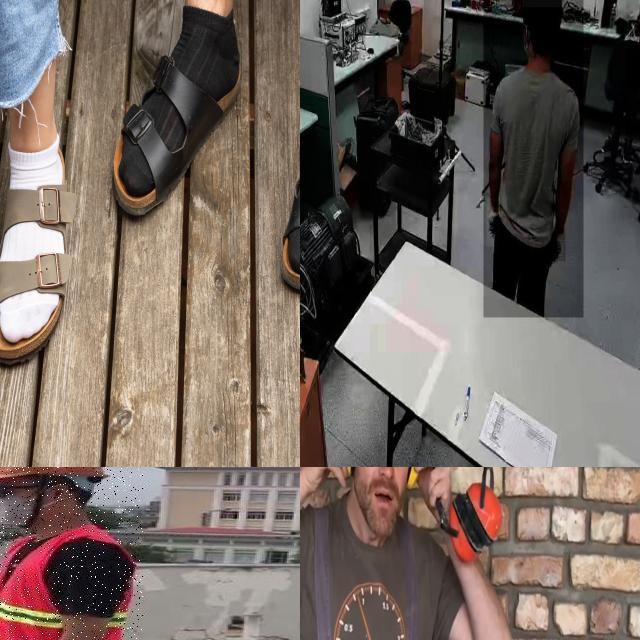Ear-protection: (337, 467, 424, 531)
Sandals: (0, 111, 70, 367)
hand_glove: (486, 198, 501, 248), (554, 228, 566, 262)
head_helmet: (0, 467, 113, 483)
head_nohelmet: (522, 0, 563, 8)
person: (483, 0, 584, 318), (0, 467, 143, 640), (625, 0, 640, 89)
vest: (0, 529, 138, 640)
